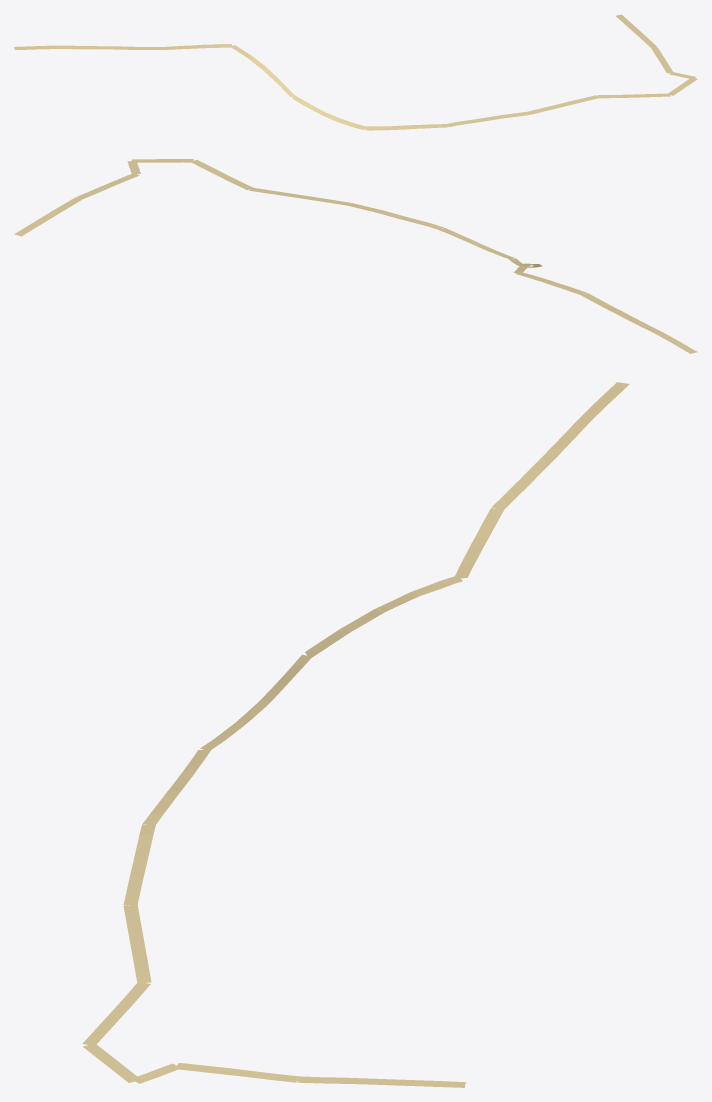
The model's file is Trail_08.glb.
3 renders of one model, top to bottom at view 1: azimuth 30°, elevation 25°; view 2: azimuth 150°, elevation 25°; view 3: azimuth 270°, elevation 25°, orthographic. The views are drawn at different scales.
Parts seen in each view (by area): view 1: Trail_08; view 2: Trail_08; view 3: Trail_08.
Boxes of the visible parts, x1,y1,x2,y2 form: Trail_08: [14, 14, 697, 130]; Trail_08: [14, 159, 697, 353]; Trail_08: [82, 382, 629, 1087].
Bounding box in the file's own units: 163 × 20.98 × 67.74.
